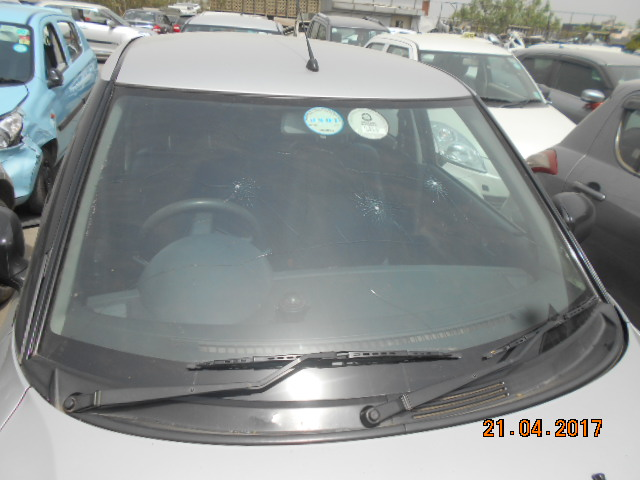Shatter: (357, 188, 389, 232), (425, 173, 447, 198), (230, 172, 254, 194)
